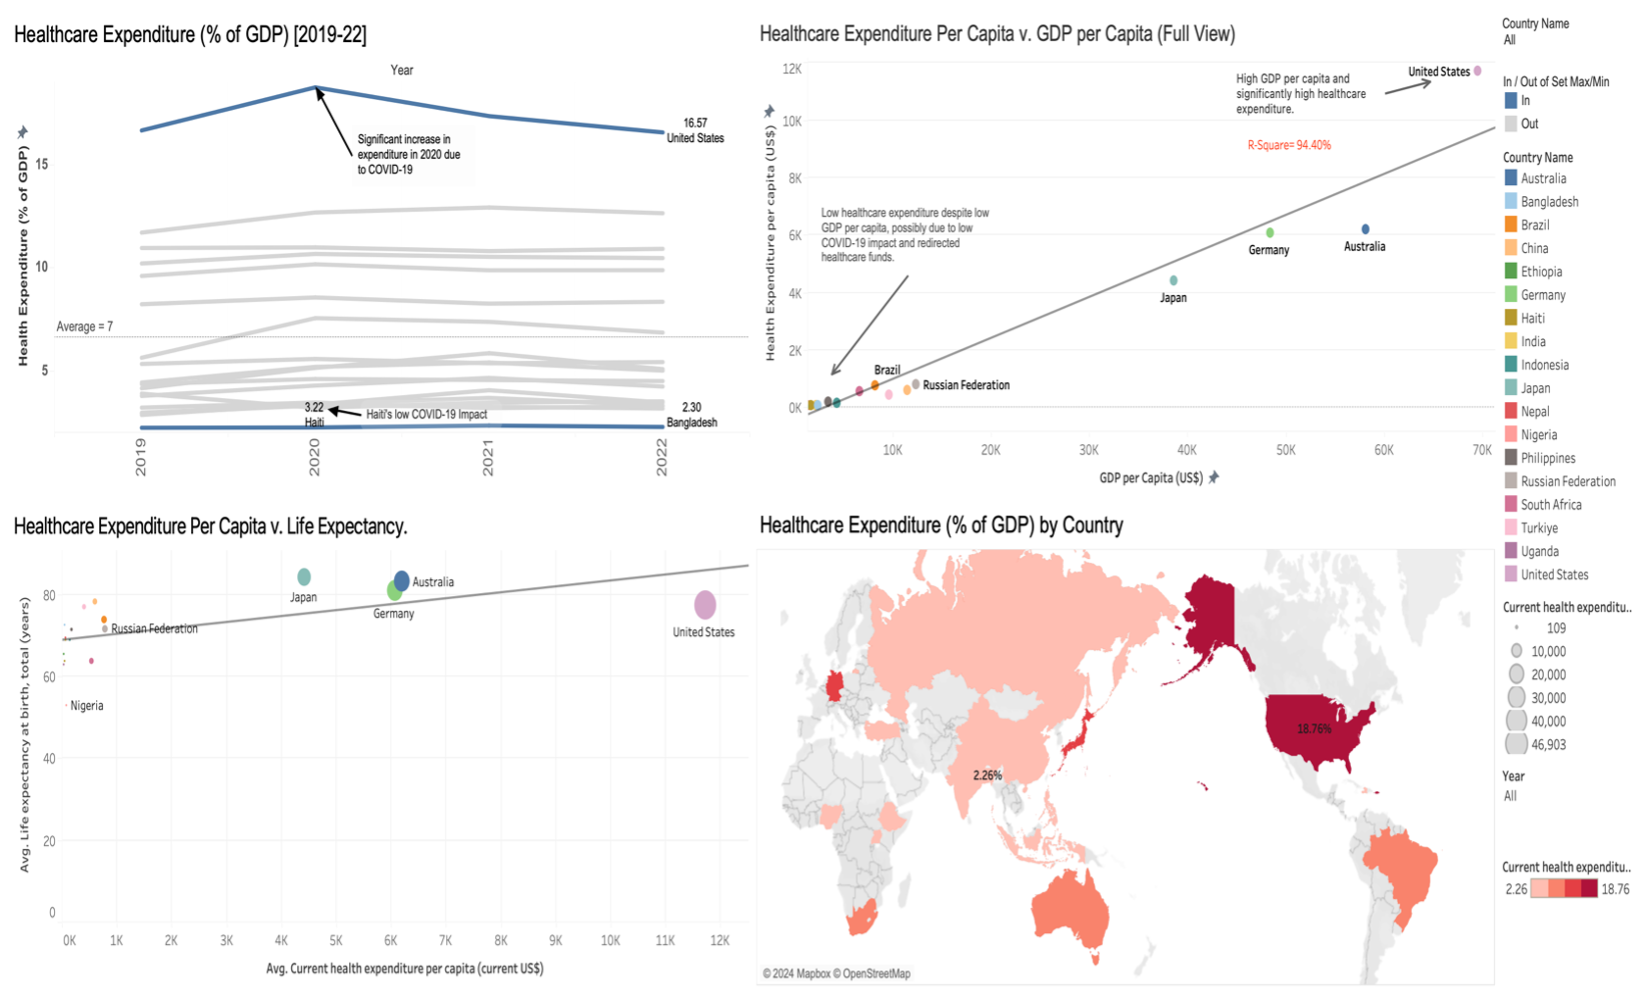

The page's visual inventory and layout, read from the dashboard file:
{"tool":"tableau","page":{"name":"Dashboard","canvas":[1000,1000],"units":"permille","ordinal":0},"visuals":[{"type":"worksheet","title":"Healthcare Exp. Post COVID-19","mark":"Line","rows":["Current health expenditure (% of GDP)"],"cols":["Year"],"box":[4.2,9.3,453.8,490.7]},{"type":"worksheet","title":"Health Exp. v. GDP per Capita (Full View)","mark":"Automatic","rows":["Current health expenditure per capita (current US$)"],"cols":["GDP per capita (current US$)"],"box":[458,9.3,453.3,490.7]},{"type":"filter","title":"Healthcare Exp. Post COVID-19","param":"[federated.07qpu7b0lvodq51824c1z0rxu0gr].[none:Country Name:nk]","box":[911.3,9.3,84.5,57.1]},{"type":"legend","title":"Healthcare Exp. Post COVID-19","param":"[federated.07qpu7b0lvodq51824c1z0rxu0gr].[io:Set 2:nk]","box":[911.3,66.4,84.5,73.4]},{"type":"legend","title":"Health Exp. v. GDP per Capita (Full View)","param":"[federated.07qpu7b0lvodq51824c1z0rxu0gr].[none:Country Name:nk]","box":[911.3,139.8,84.5,449.9]},{"type":"worksheet","title":"Health Exp. v. Life Expectancy","mark":"Automatic","rows":["Life expectancy at birth, total (years)"],"cols":["Current health expenditure per capita (current US$)"],"box":[4.2,500,453.5,490.7]},{"type":"worksheet","title":"MapView (health expenditure) Yearly","mark":"Multipolygon","box":[457.7,500,453.6,490.7]},{"type":"legend","title":"Health Exp. v. Life Expectancy","param":"[federated.07qpu7b0lvodq51824c1z0rxu0gr].[sum:Current health expenditure per cap","box":[911.3,589.7,84.5,170.2]},{"type":"filter","title":"MapView (health expenditure) Yearly","param":"[federated.07qpu7b0lvodq51824c1z0rxu0gr].[none:Year:ok]","box":[911.3,759.9,84.5,87.4]},{"type":"legend","title":"MapView (health expenditure) Yearly","param":"[federated.07qpu7b0lvodq51824c1z0rxu0gr].[none:Current health expenditure (% of ","box":[911.3,847.3,84.5,75.8]}]}

Visuals, with their boxes on the dashboard's canvas, which has no fixed pixel size, in thousandths of its width and height (x1, y1, x2, y2). These are canvas units, not pixel positions in the 1650x1005 screenshot, which may show the page scaled, cropped or inside an application window:
"Healthcare Exp. Post COVID-19" worksheet (Line marks): {"left": 4, "top": 9, "right": 458, "bottom": 500}
"Health Exp. v. GDP per Capita (Full View)" worksheet: {"left": 458, "top": 9, "right": 911, "bottom": 500}
"Healthcare Exp. Post COVID-19" filter: {"left": 911, "top": 9, "right": 996, "bottom": 66}
"Healthcare Exp. Post COVID-19" legend: {"left": 911, "top": 66, "right": 996, "bottom": 140}
"Health Exp. v. GDP per Capita (Full View)" legend: {"left": 911, "top": 140, "right": 996, "bottom": 590}
"Health Exp. v. Life Expectancy" worksheet: {"left": 4, "top": 500, "right": 458, "bottom": 991}
"MapView (health expenditure) Yearly" worksheet (Multipolygon marks): {"left": 458, "top": 500, "right": 911, "bottom": 991}
"Health Exp. v. Life Expectancy" legend: {"left": 911, "top": 590, "right": 996, "bottom": 760}
"MapView (health expenditure) Yearly" filter: {"left": 911, "top": 760, "right": 996, "bottom": 847}
"MapView (health expenditure) Yearly" legend: {"left": 911, "top": 847, "right": 996, "bottom": 923}
